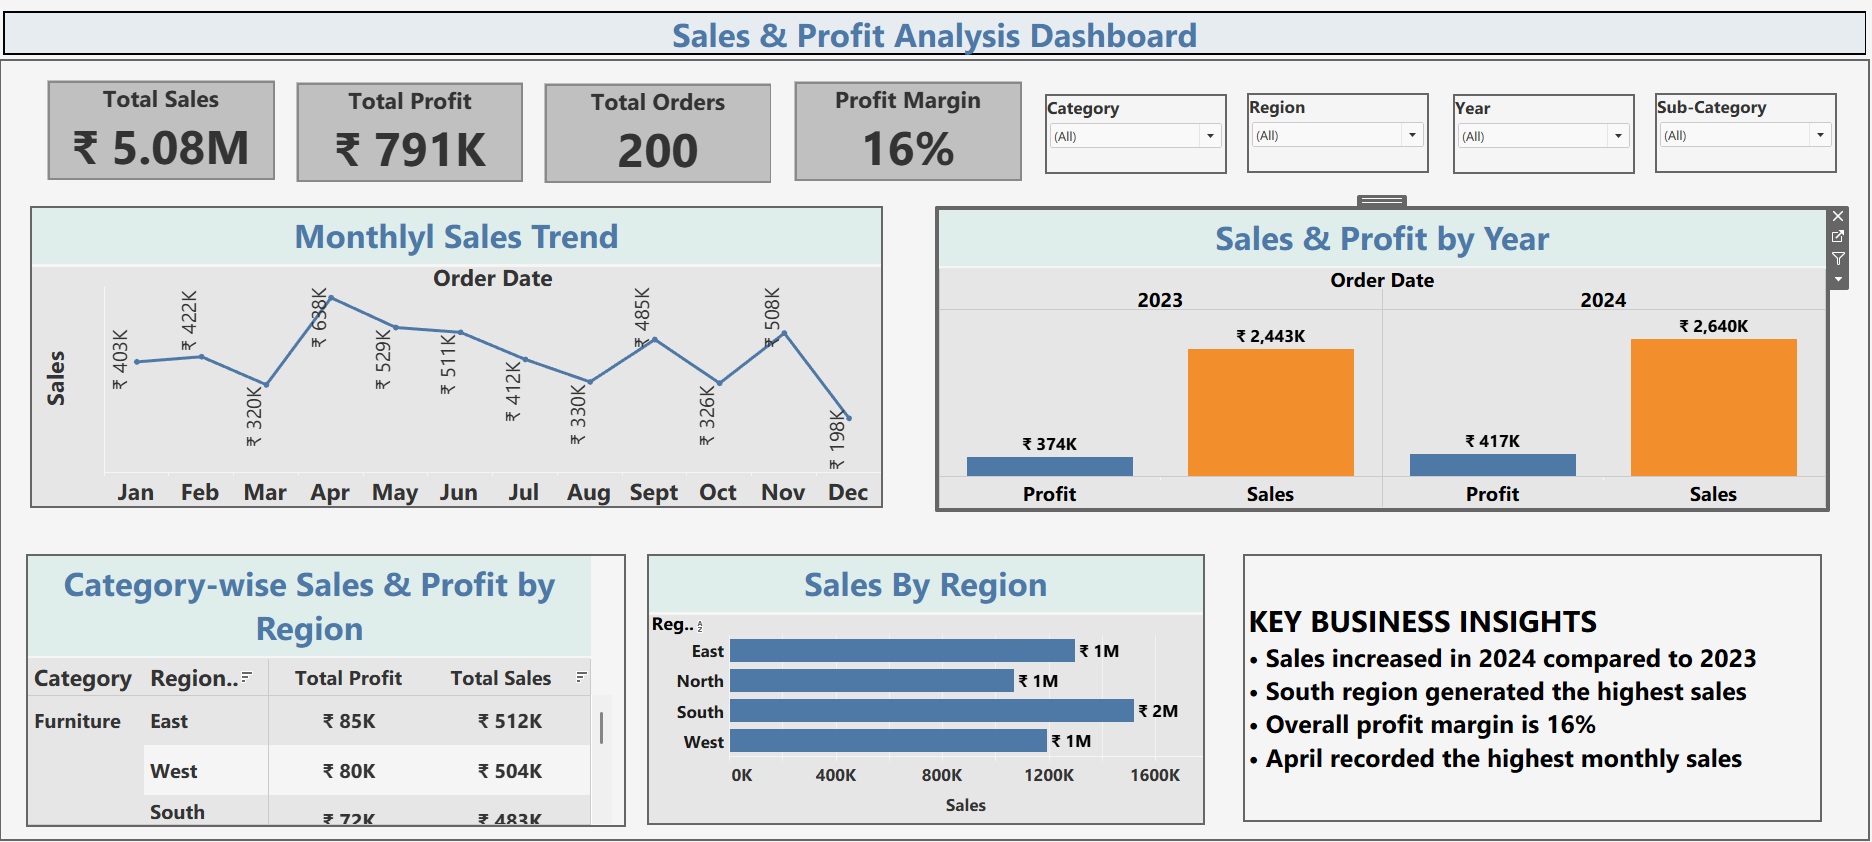

Layout of this report page (visuals, bound fields, positions):
{"tool":"tableau","page":{"name":"Dashboard 1","canvas":[1000,1000],"units":"permille","ordinal":0},"visuals":[{"type":"title","box":[4.8,9.4,990.3,61.1]},{"type":"worksheet","title":"Sheet 1","mark":"Automatic","box":[29.6,95.2,120.7,117.5]},{"type":"worksheet","title":"Sheet 11","mark":"Automatic","box":[425.5,96.4,120.7,117.5]},{"type":"worksheet","title":"Sheet 2","mark":"Automatic","box":[161.7,97.5,120.7,117.5]},{"type":"worksheet","title":"Sheet 3","mark":"Automatic","box":[292.7,98.7,120.7,117.5]},{"type":"filter","title":"Sheet 1","param":"[federated.0jchjna0ss3uea15h6ln901ewc5r].[State (group)]","box":[665.1,110.5,96.6,94]},{"type":"filter","title":"Sheet 12","param":"[federated.0jchjna0ss3uea15h6ln901ewc5r].[none:Sub-Category:nk]","box":[881.1,110.5,96.6,94]},{"type":"filter","title":"Sheet 1","param":"[federated.0jchjna0ss3uea15h6ln901ewc5r].[none:Category:nk]","box":[558.2,111.6,96.6,94]},{"type":"filter","title":"Sheet 1","param":"[federated.0jchjna0ss3uea15h6ln901ewc5r].[yr:Order Date:ok]","box":[774.3,111.6,96.6,94]},{"type":"worksheet","title":"Sheet 7","mark":"Automatic","rows":["Sales"],"cols":["Order Date"],"box":[20.5,243.2,452,354.9]},{"type":"worksheet","title":"Sheet 12","mark":"Bar","cols":["Order Date"],"box":[500.9,245.6,471.9,354.9]},{"type":"worksheet","title":"Sheet 5","mark":"Automatic","rows":["Category"],"box":[18.7,652.2,318,320.8]},{"type":"worksheet","title":"Sheet 10","mark":"Automatic","rows":["Region"],"cols":["Sales"],"box":[347.6,652.2,295.7,318.4]},{"type":"text","box":[663.2,652.2,306.6,314.9]}]}

Visuals, with their boxes on the dashboard's canvas, which has no fixed pixel size, in thousandths of its width and height (x1, y1, x2, y2). These are canvas units, not pixel positions in the 1872x842 screenshot, which may show the page scaled, cropped or inside an application window:
title: box(5, 9, 995, 70)
"Sheet 1" worksheet: box(30, 95, 150, 213)
"Sheet 11" worksheet: box(426, 96, 546, 214)
"Sheet 2" worksheet: box(162, 98, 282, 215)
"Sheet 3" worksheet: box(293, 99, 413, 216)
"Sheet 1" filter: box(665, 110, 762, 204)
"Sheet 12" filter: box(881, 110, 978, 204)
"Sheet 1" filter: box(558, 112, 655, 206)
"Sheet 1" filter: box(774, 112, 871, 206)
"Sheet 7" worksheet: box(20, 243, 472, 598)
"Sheet 12" worksheet (Bar marks): box(501, 246, 973, 600)
"Sheet 5" worksheet: box(19, 652, 337, 973)
"Sheet 10" worksheet: box(348, 652, 643, 971)
text: box(663, 652, 970, 967)
